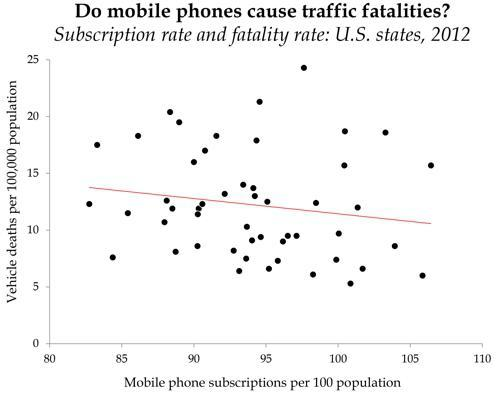axis: (42, 341, 489, 350), (42, 56, 54, 351)
point: (121, 208, 136, 218), (211, 131, 223, 143), (164, 106, 176, 117), (108, 251, 119, 263), (417, 270, 429, 281), (199, 144, 210, 155), (188, 156, 199, 167), (251, 135, 263, 145), (91, 141, 104, 150), (160, 217, 171, 227), (331, 255, 342, 265), (254, 96, 265, 106), (298, 63, 309, 73), (84, 200, 96, 209), (425, 161, 437, 170), (380, 127, 392, 136), (339, 127, 351, 136), (133, 131, 143, 141), (193, 242, 203, 252), (234, 265, 244, 275), (242, 222, 252, 232), (346, 279, 356, 289), (391, 241, 401, 251), (248, 183, 259, 192), (173, 119, 185, 127), (257, 231, 266, 241), (274, 255, 283, 265), (264, 264, 274, 273), (335, 228, 344, 238), (312, 199, 322, 208), (353, 203, 362, 213), (357, 264, 367, 273), (171, 248, 182, 256), (262, 197, 273, 205), (278, 237, 287, 246), (162, 196, 172, 204), (230, 246, 238, 256), (242, 253, 250, 263), (198, 199, 208, 207), (220, 190, 230, 198), (238, 181, 248, 189), (292, 232, 302, 240), (251, 192, 259, 201), (248, 236, 256, 245), (283, 231, 292, 239), (340, 161, 349, 169), (167, 205, 177, 212), (308, 271, 318, 278), (194, 211, 203, 218), (195, 205, 203, 212)
